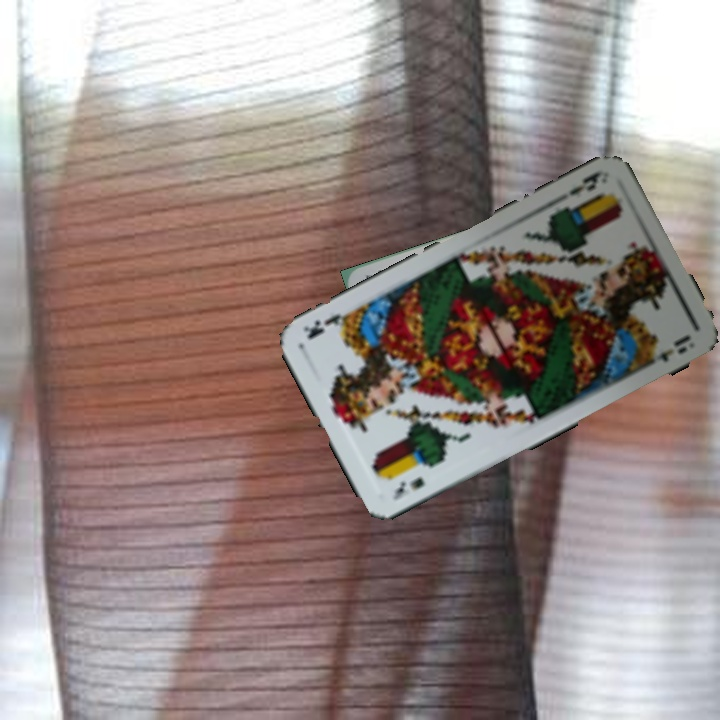EK: (565, 167, 603, 198), (388, 473, 427, 503)
